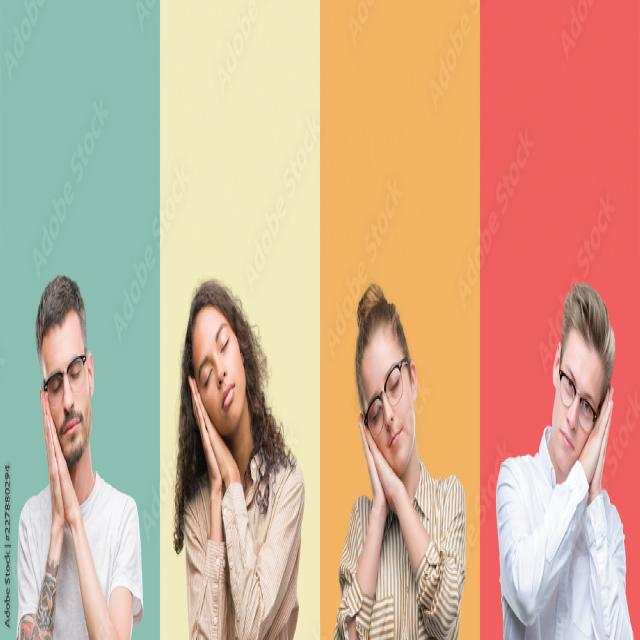Sleepy: (358, 336, 414, 461), (39, 332, 90, 453), (193, 312, 243, 432)
